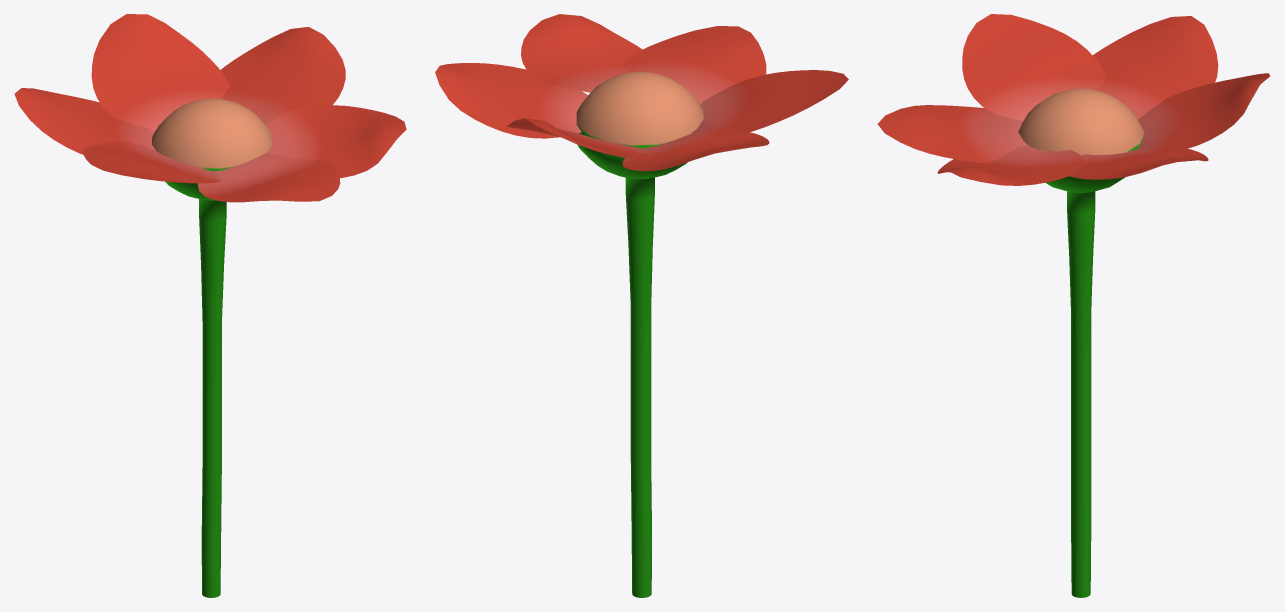
Rendered from Flower 3.obj.
3 views of the same model, side by side, from view 1: azimuth 30°, elevation 25°; view 2: azimuth 150°, elevation 25°; view 3: azimuth 270°, elevation 25° (orthographic). The views are drawn at different scales.
Visible parts, largest first — view 1: Flower_3; view 2: Flower_3; view 3: Flower_3.
Part boxes in pixels (x1,y1,x2,y2): Flower_3: (14,14,406,597); Flower_3: (435,14,848,597); Flower_3: (877,14,1269,597).
Bounding box in the file's own units: 2.47 × 3.91 × 2.67.
Materials: 3 (3 with a texture image).
